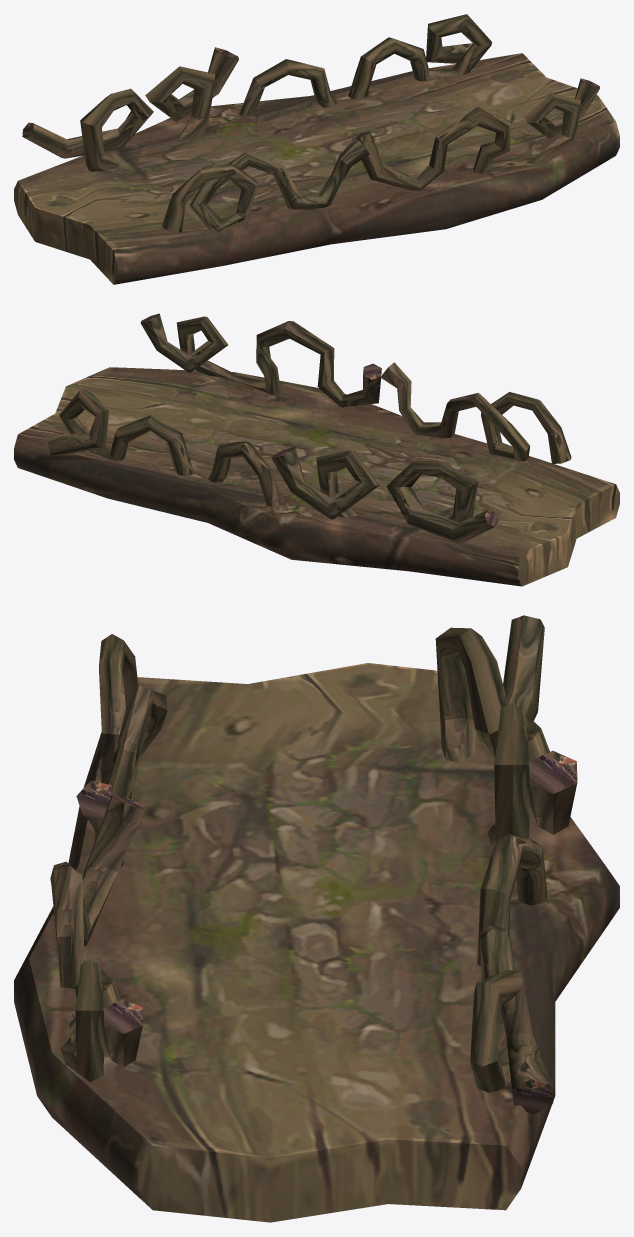
Rendered from SL_qiao01.FBX.
3 views of the same model, one above another, from view 1: azimuth 30°, elevation 25°; view 2: azimuth 150°, elevation 25°; view 3: azimuth 270°, elevation 25° (orthographic). The views are drawn at different scales.
Visible parts, largest first — view 1: Box02, Line06, Line04, Line05, 对象310, 对象311; view 2: Box02, Line06, Line04, Line05, 对象310, 对象311; view 3: Box02, Line04, Line06, 对象310, 对象311, Line05.
Part boxes in pixels (x1,y1,x2,y2): Box02: [14, 53, 619, 284]; Line06: [352, 78, 599, 190]; Line04: [239, 14, 491, 116]; Line05: [162, 138, 369, 232]; 对象310: [22, 88, 153, 171]; 对象311: [145, 47, 238, 139]; Box02: [14, 367, 619, 586]; Line06: [140, 313, 381, 407]; Line04: [48, 388, 281, 506]; Line05: [381, 362, 571, 463]; 对象310: [386, 460, 498, 544]; 对象311: [271, 446, 379, 519]; Box02: [14, 663, 619, 1222]; Line04: [470, 833, 553, 1114]; Line06: [50, 794, 145, 1081]; 对象310: [435, 615, 544, 762]; 对象311: [487, 702, 577, 846]; Line05: [76, 634, 167, 866].
Bounding box in the file's own units: 949 × 176 × 491.
